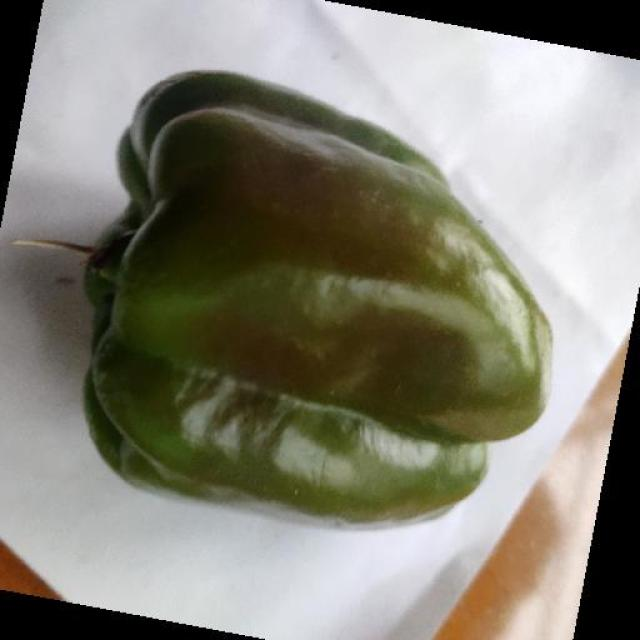Stale_Capsicum: (118, 32, 525, 528)
